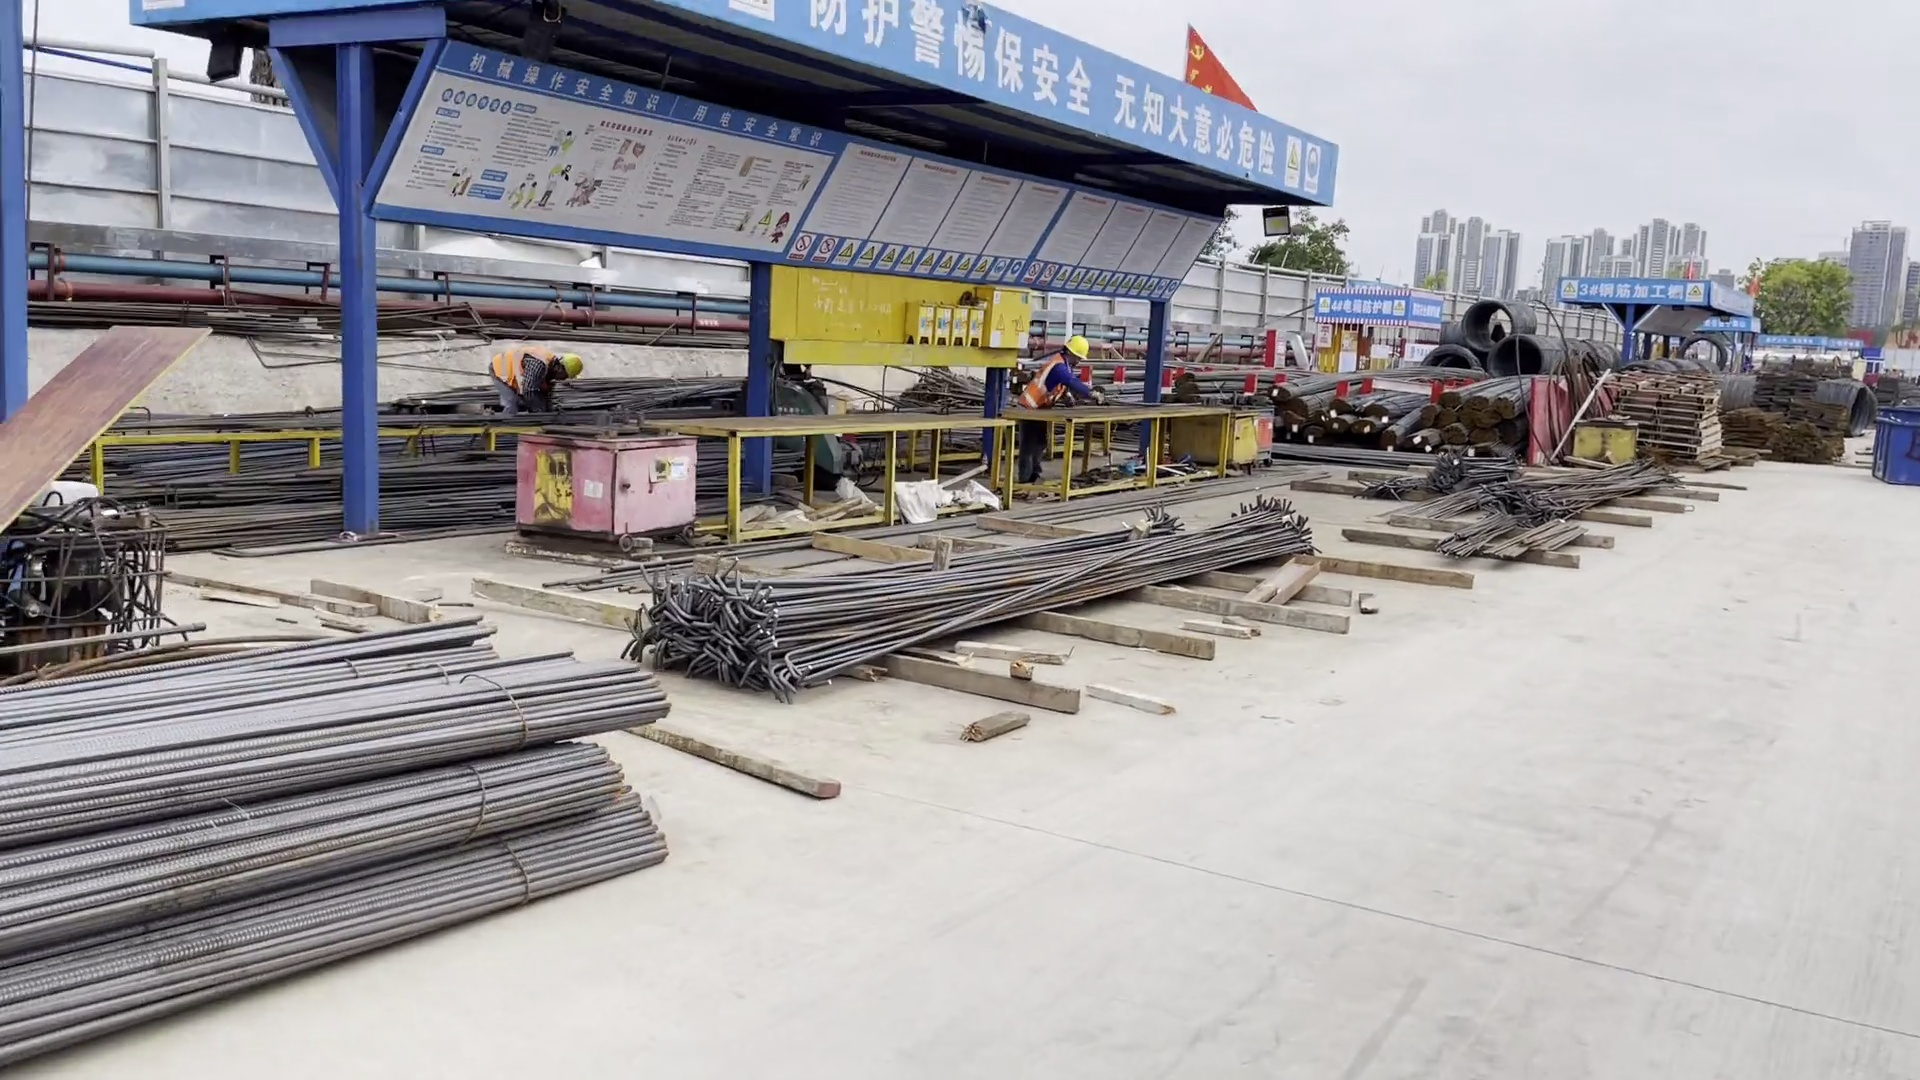ebox: (974, 283, 1032, 350)
helmet: (1062, 336, 1093, 362), (559, 353, 583, 376)
hopper: (1864, 412, 1920, 481)
person: (1010, 331, 1108, 412), (484, 353, 588, 411)
rebar: (1, 757, 723, 1031), (1, 724, 629, 925), (1, 622, 681, 804), (628, 500, 1293, 679), (1268, 369, 1490, 401), (1177, 367, 1303, 394), (1472, 380, 1524, 411), (1286, 390, 1340, 417), (1376, 393, 1431, 417), (1383, 410, 1421, 445), (1499, 383, 1538, 417), (1471, 425, 1507, 445), (1411, 428, 1444, 450), (1327, 413, 1353, 436), (1479, 405, 1506, 428), (1348, 416, 1376, 436), (1442, 424, 1474, 443), (1278, 413, 1301, 437), (1432, 408, 1460, 427), (1301, 426, 1325, 447), (1460, 405, 1481, 427)
slogan: (803, 1, 1269, 183)
vest: (1019, 353, 1071, 409), (489, 353, 549, 395)
